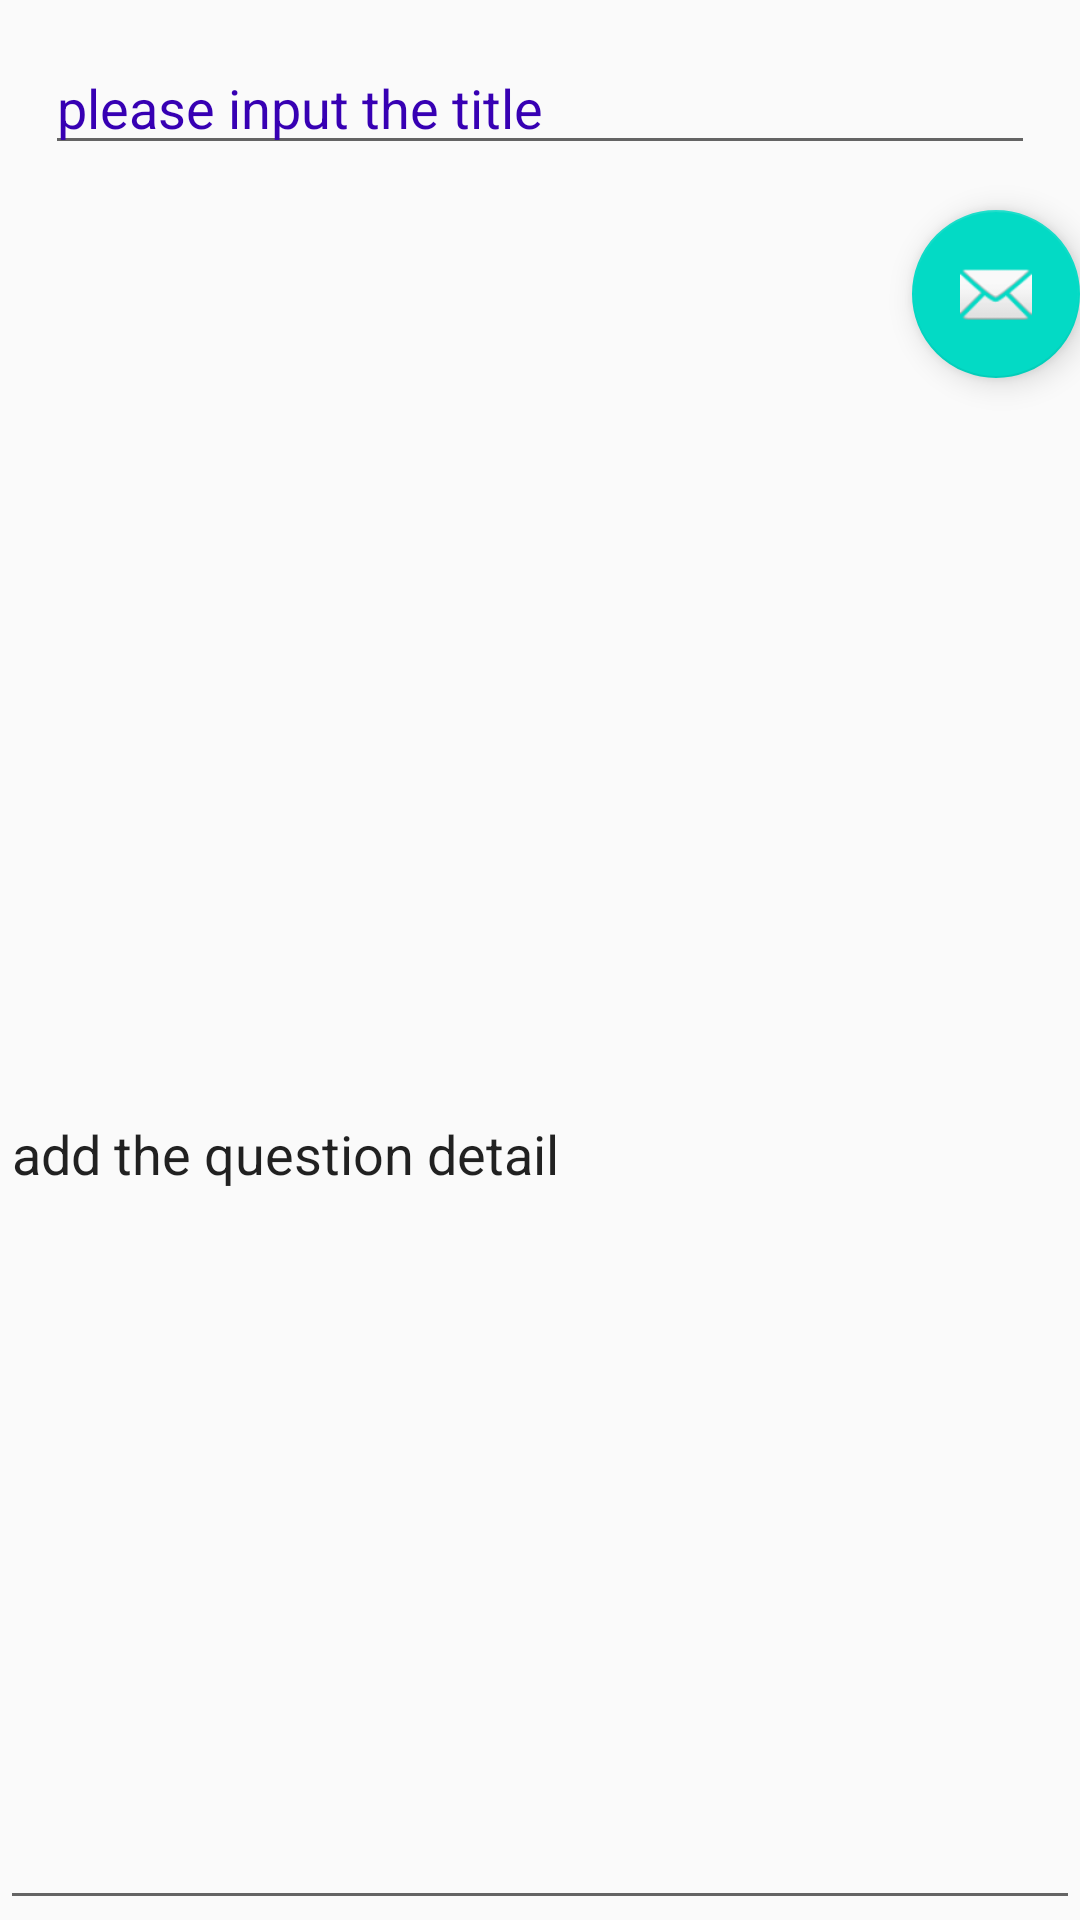

Point at icon controls on the screen. Image size 1080x1920, points as point (x, y).
email: point (996, 294)
